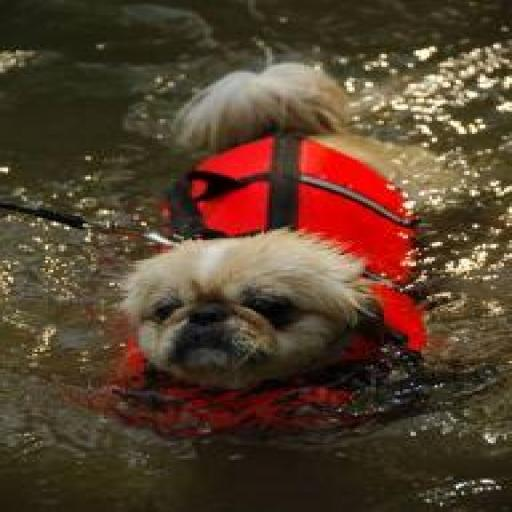dog_face: (123, 236, 365, 375)
